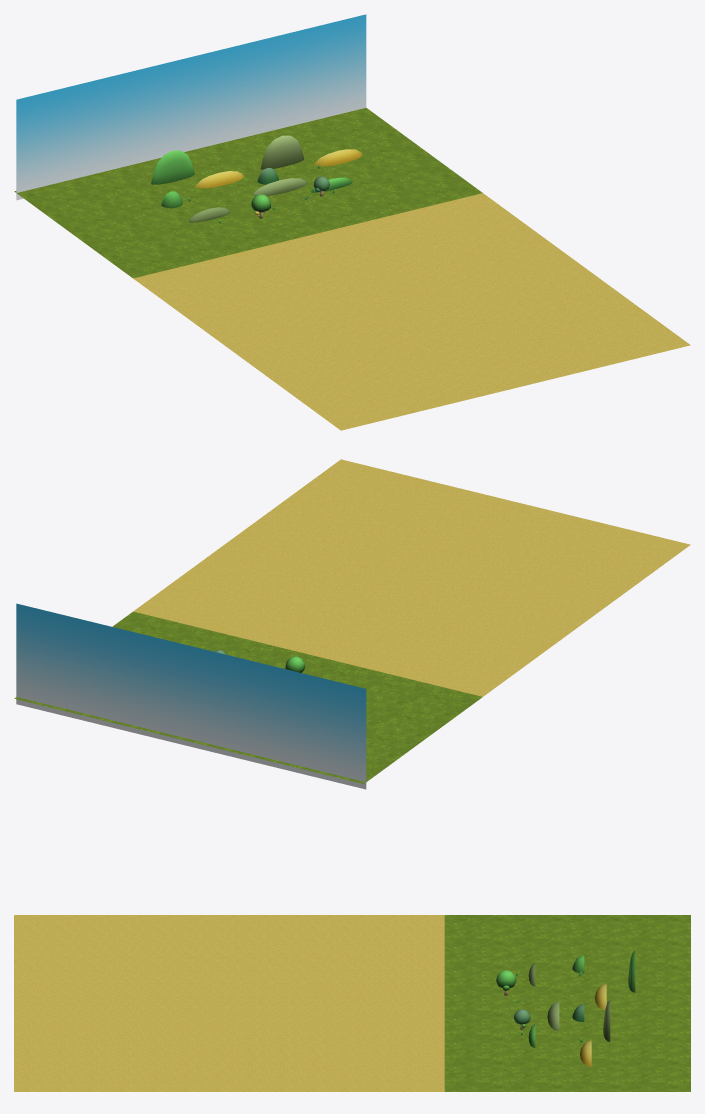
File: environment.fbx
The picture shows the model from 3 angles, top to bottom: view 1: azimuth 30°, elevation 25°; view 2: azimuth 150°, elevation 25°; view 3: azimuth 270°, elevation 25°; orthographic projection. The views are drawn at different scales.
Visible parts, largest first — view 1: ground_1, ground_2, sky, tree; view 2: ground_1, sky, ground_2; view 3: ground_1, ground_2, tree.
Boxes of the visible parts, x1,y1,x2,y2 form: ground_1: (133, 193, 690, 430); ground_2: (14, 107, 482, 278); sky: (16, 14, 366, 200); tree: (151, 135, 362, 223); ground_1: (133, 459, 690, 696); sky: (16, 603, 366, 789); ground_2: (14, 611, 482, 783); ground_1: (14, 915, 444, 1091); ground_2: (444, 915, 690, 1091); tree: (496, 950, 635, 1066).
Size of the model in its own units: 41.82 by 11.5 by 67.67.
